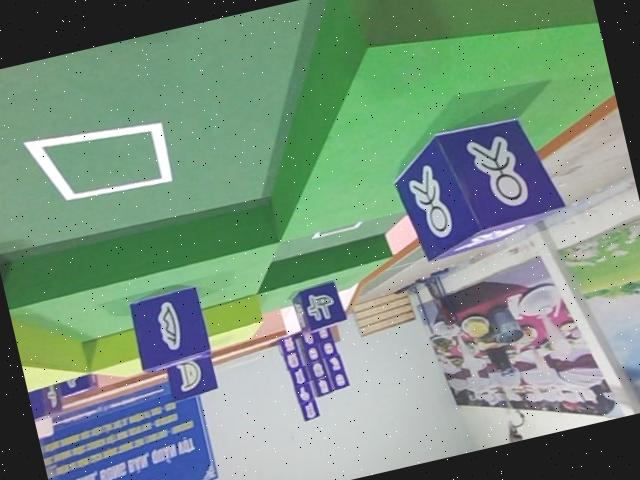R2 Real Blue: (385, 106, 568, 264), (126, 281, 217, 374), (285, 279, 347, 335), (164, 351, 220, 402), (26, 380, 62, 422)
